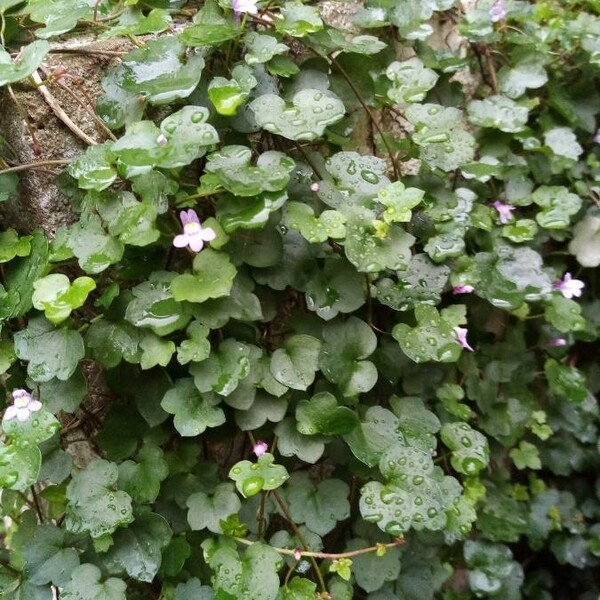obstacle: (54, 72, 484, 524)
